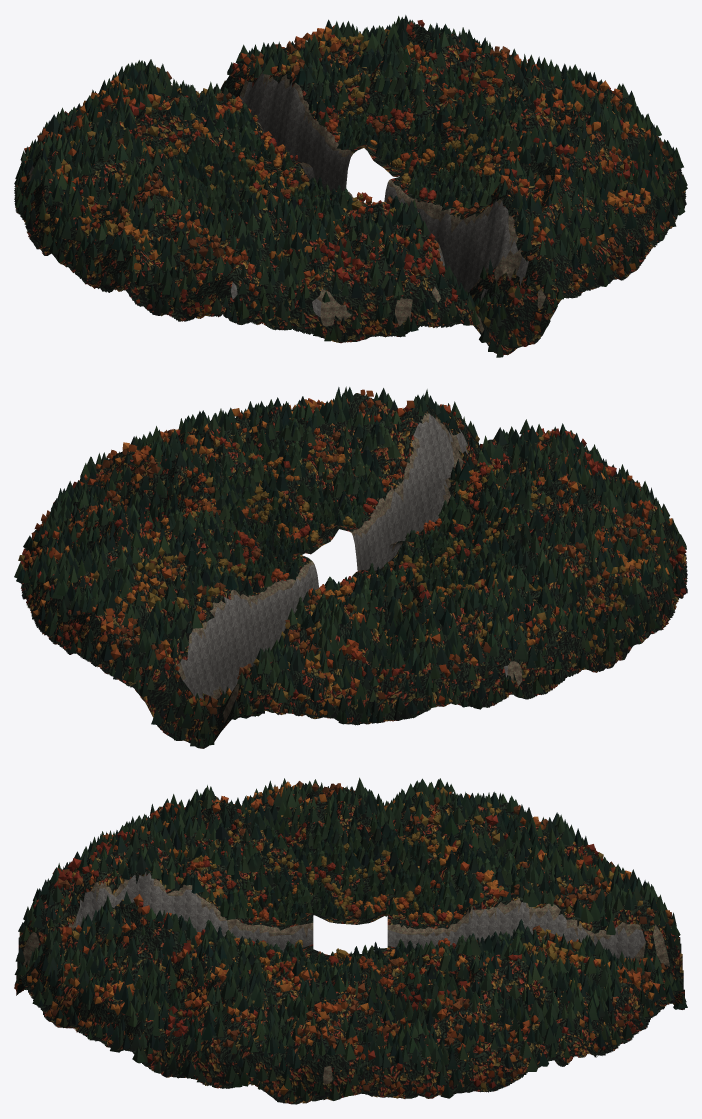
File: backdrop_mountain_ring_v5_autumn_near.glb
3 renders of one model, top to bottom at view 1: azimuth 30°, elevation 25°; view 2: azimuth 150°, elevation 25°; view 3: azimuth 270°, elevation 25°, orthographic.
Parts seen in each view (by area): view 1: trees_v5_near_0, backdrop_v5_near; view 2: trees_v5_near_0, backdrop_v5_near; view 3: trees_v5_near_0, backdrop_v5_near.
Part boxes in pixels (box(x1,y1,x2,y2)): trees_v5_near_0: box(14, 15, 687, 357); backdrop_v5_near: box(14, 24, 686, 355); trees_v5_near_0: box(14, 386, 687, 747); backdrop_v5_near: box(20, 393, 687, 748); trees_v5_near_0: box(14, 777, 687, 1101); backdrop_v5_near: box(16, 787, 684, 1104).
Bounding box in the file's own units: 578 × 177 × 579.
Materials: 4 (3 with a texture image).
